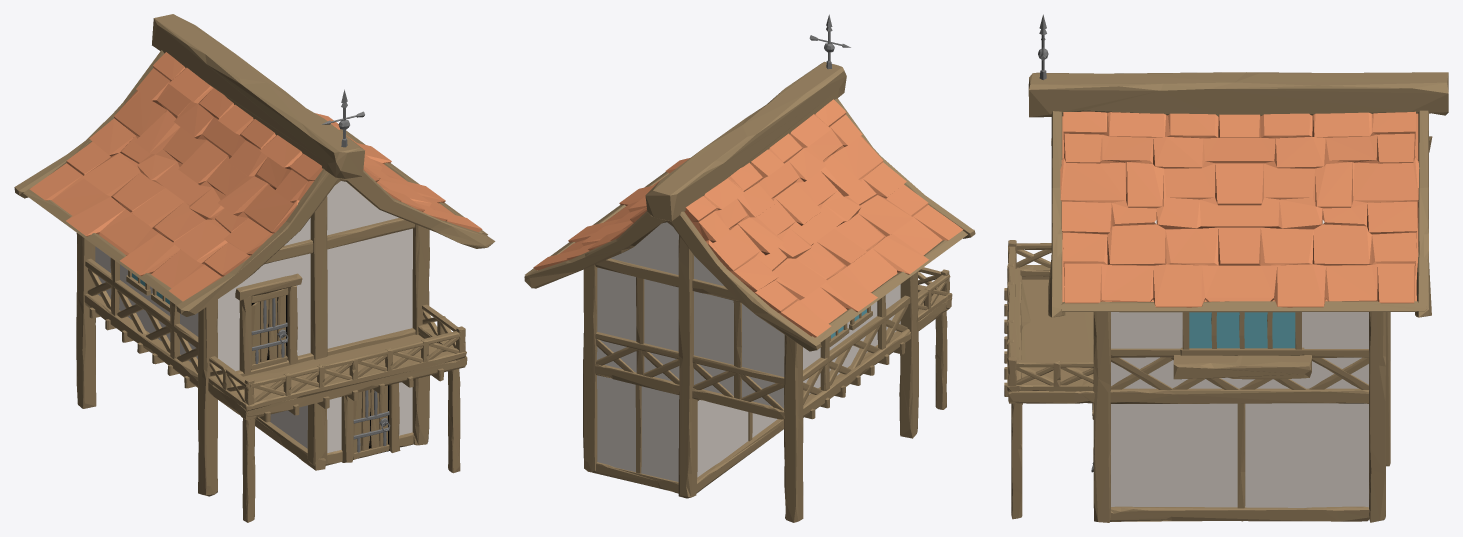
Rendered from mesh_House_Balcony.fbx.
3 views of the same model, side by side, from view 1: azimuth 30°, elevation 25°; view 2: azimuth 150°, elevation 25°; view 3: azimuth 270°, elevation 25° (orthographic). The views are drawn at different scales.
Parts seen in each view (by area): view 1: Pieces_3_polySurface72; view 2: Pieces_3_polySurface72; view 3: Pieces_3_polySurface72.
Boxes of the visible parts, x1,y1,x2,y2 form: Pieces_3_polySurface72: [14, 14, 495, 522]; Pieces_3_polySurface72: [524, 14, 975, 522]; Pieces_3_polySurface72: [1004, 14, 1448, 522].
Size of the model in its own units: 8.99 by 10.9 by 9.75.
